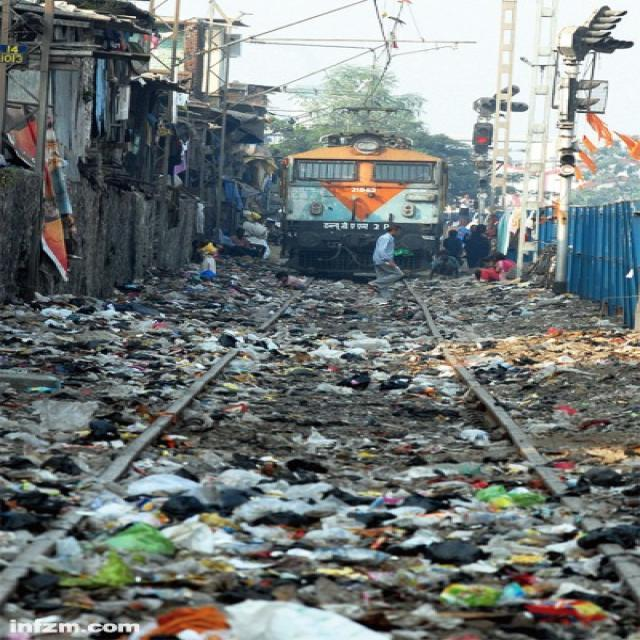people: (356, 227, 415, 296), (479, 253, 522, 284)
